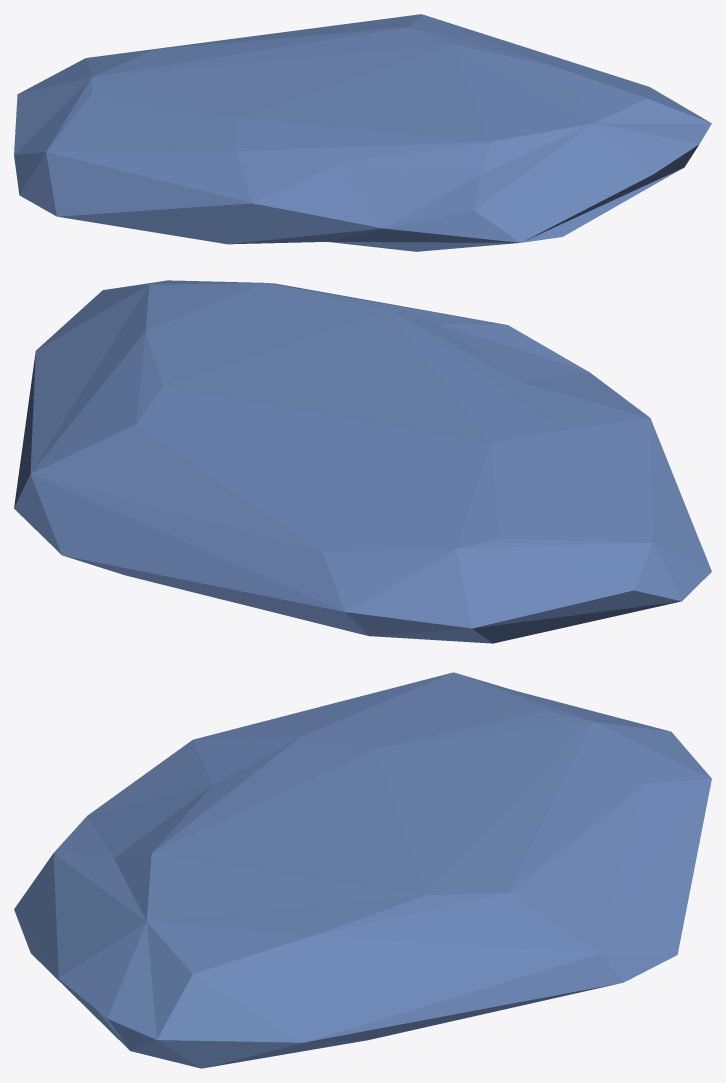
The model's file is Stein 2.glb.
The picture shows the model from 3 angles, top to bottom: view 1: azimuth 30°, elevation 25°; view 2: azimuth 150°, elevation 25°; view 3: azimuth 270°, elevation 25°; orthographic projection. The views are drawn at different scales.
Visible parts, largest first — view 1: Stein 1; view 2: Stein 1; view 3: Stein 1.
Part boxes in pixels (<box>): Stein 1: <box>14,14,711,251</box>; Stein 1: <box>14,280,711,643</box>; Stein 1: <box>14,672,711,1068</box>.
Size of the model in its own units: 0.3935 by 0.0454 by 0.3249.
